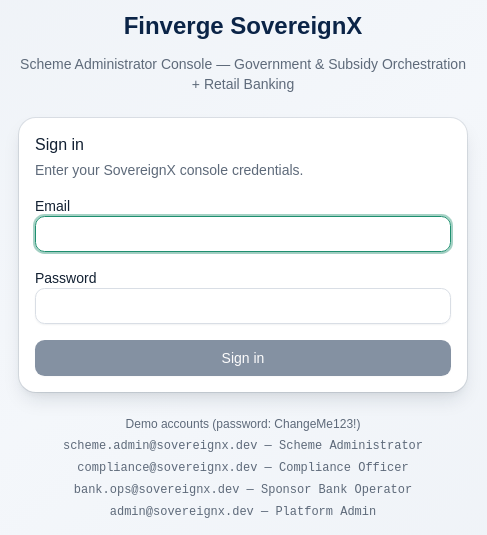
Test: SovereignX Console › clicking a demo account fills the form
The width and height of the screenshot is (487, 535).
Click the button "scheme.admin@sovereignx.dev — Scheme Administrator" at (243, 446), box [19, 438, 467, 454]
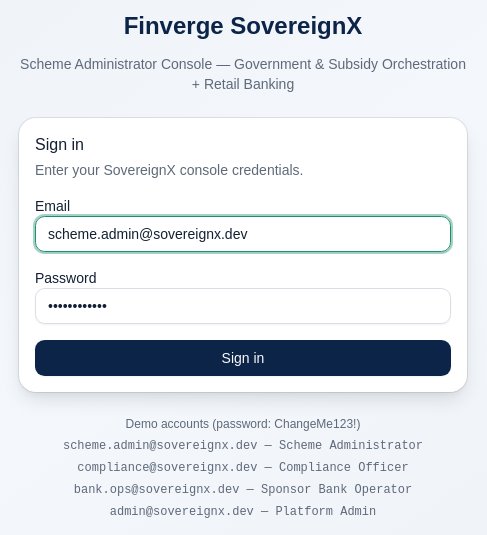
expect the field labelled "Email" holds "scheme.admin@sovereignx.dev": met, box [35, 216, 451, 252]
expect the password field labelled "Password" holds "ChangeMe123!": met, box [35, 288, 451, 324]
